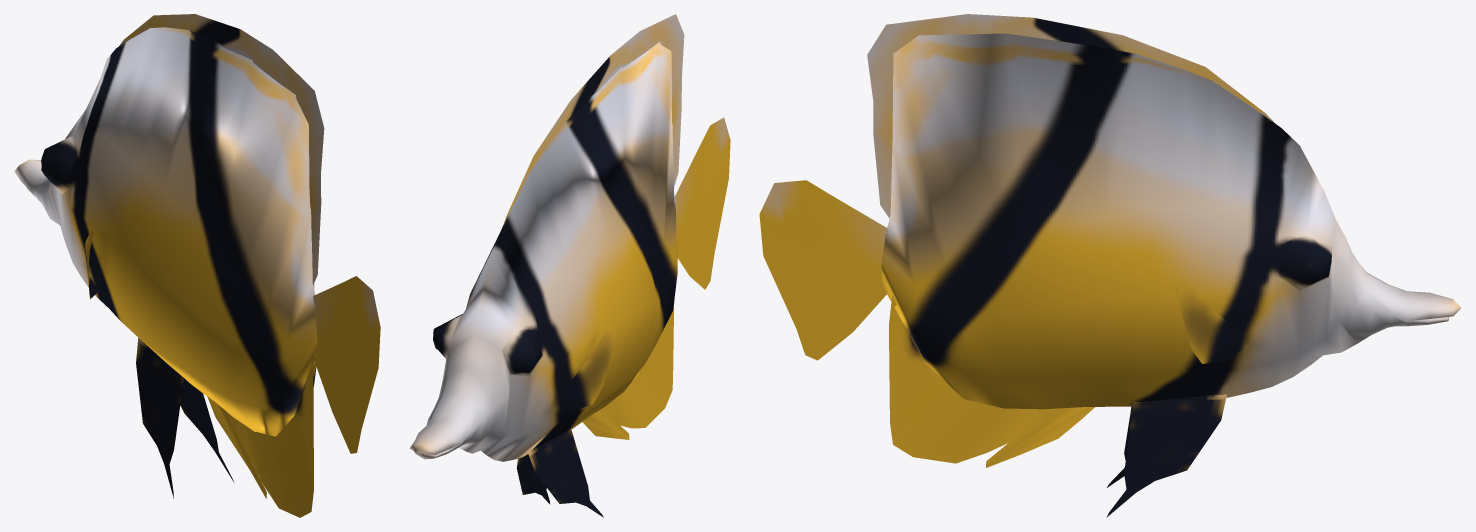
The model's file is ButterFlyWhite.fbx.
3 views of the same model, side by side, from view 1: azimuth 30°, elevation 25°; view 2: azimuth 150°, elevation 25°; view 3: azimuth 270°, elevation 25° (orthographic). The views are drawn at different scales.
Parts seen in each view (by area): view 1: ButterFlyWhite_LOD00; view 2: ButterFlyWhite_LOD00; view 3: ButterFlyWhite_LOD00.
Part boxes in pixels (x1,y1,x2,y2): ButterFlyWhite_LOD00: (14, 14, 380, 517); ButterFlyWhite_LOD00: (409, 14, 730, 517); ButterFlyWhite_LOD00: (759, 14, 1460, 517).
Size of what is drawn, in the model's own units: 15.17 by 46.33 by 60.33.
